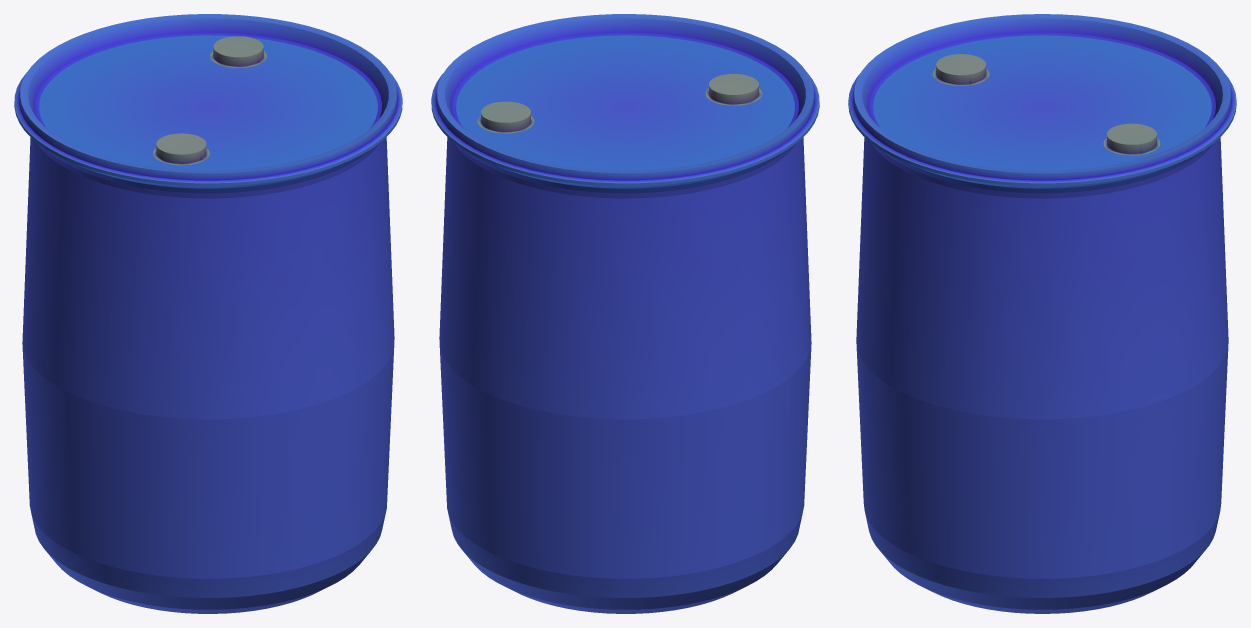
3 views of the same model, side by side, from view 1: azimuth 30°, elevation 25°; view 2: azimuth 150°, elevation 25°; view 3: azimuth 270°, elevation 25° (orthographic).
Parts seen in each view (by area): view 1: body, lid, collar, collar.001; view 2: body, lid, collar.001, collar; view 3: body, lid, collar.001, collar.
Boxes of the visible parts, x1,y1,x2,y2 form: body: (22, 35, 394, 613); lid: (14, 14, 402, 188); collar: (153, 133, 209, 165); collar.001: (210, 36, 266, 67); body: (439, 35, 811, 613); lid: (431, 14, 819, 188); collar.001: (477, 101, 534, 133); collar: (705, 74, 762, 105); body: (856, 35, 1228, 613); lid: (848, 14, 1236, 188); collar.001: (1103, 123, 1160, 155); collar: (932, 54, 989, 85).
Size of the model in its own units: 0.6822 by 0.9 by 0.6822.
